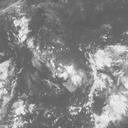cyclone: (45, 49, 96, 92)
